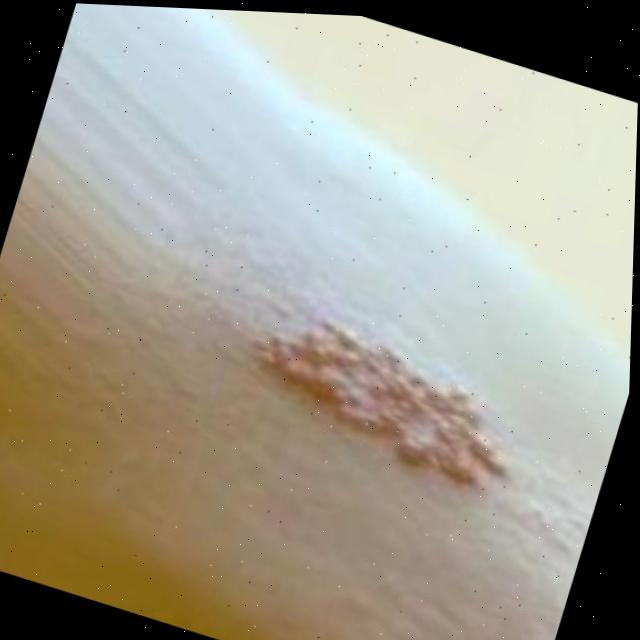Shingles: (236, 299, 539, 507)
